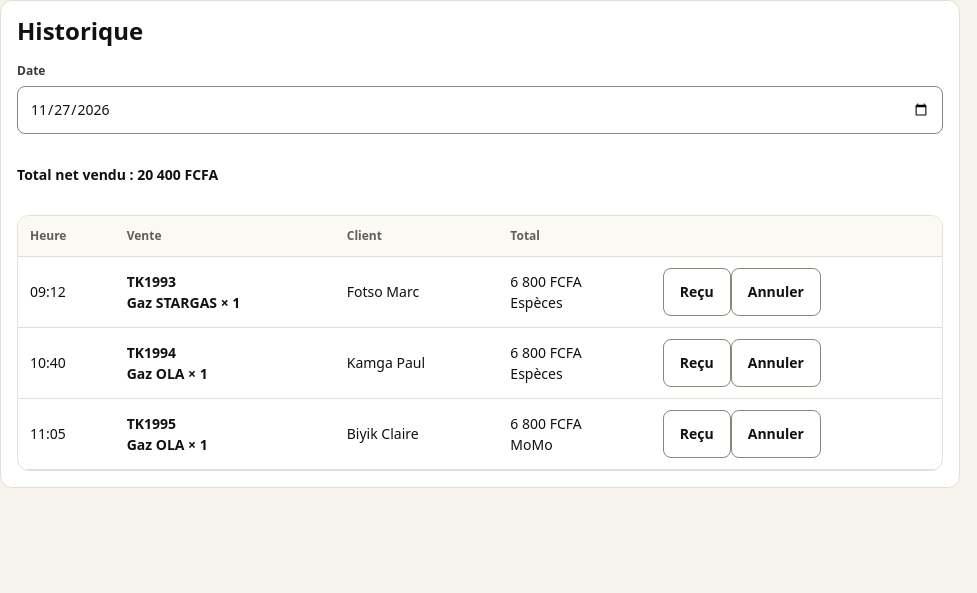
Scenario: historique et clients › annule une vente avec un motif ; elle ne peut pas l'être deux fois
Step 1. Click the button with aria-label "Annuler TK1993" → click(776, 292), box [731,268,821,316]
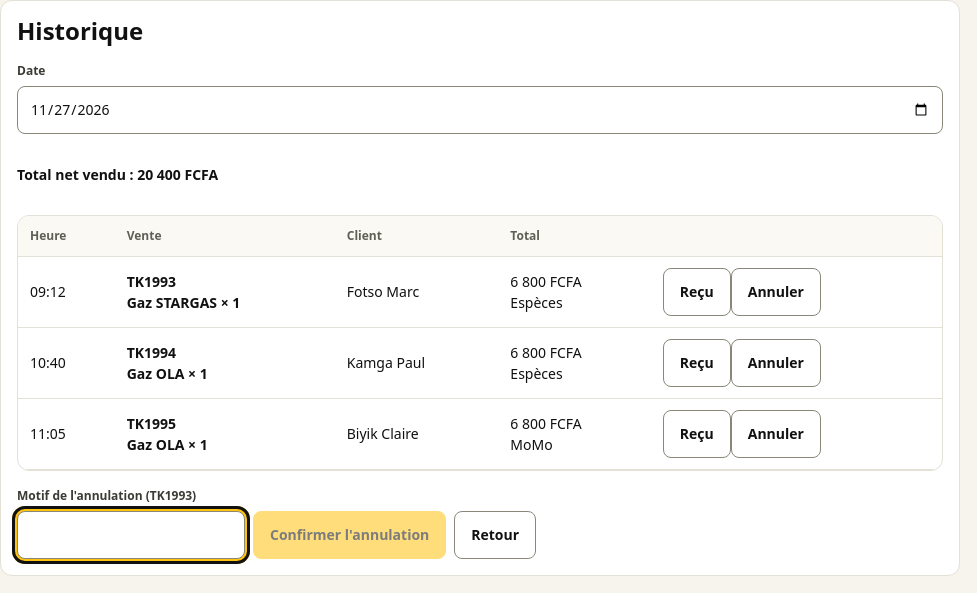
Step 2. Type "erreur de saisie" into the field labelled "Motif de l'annulation (TK1993)" → (131, 535), box [17,511,245,559]
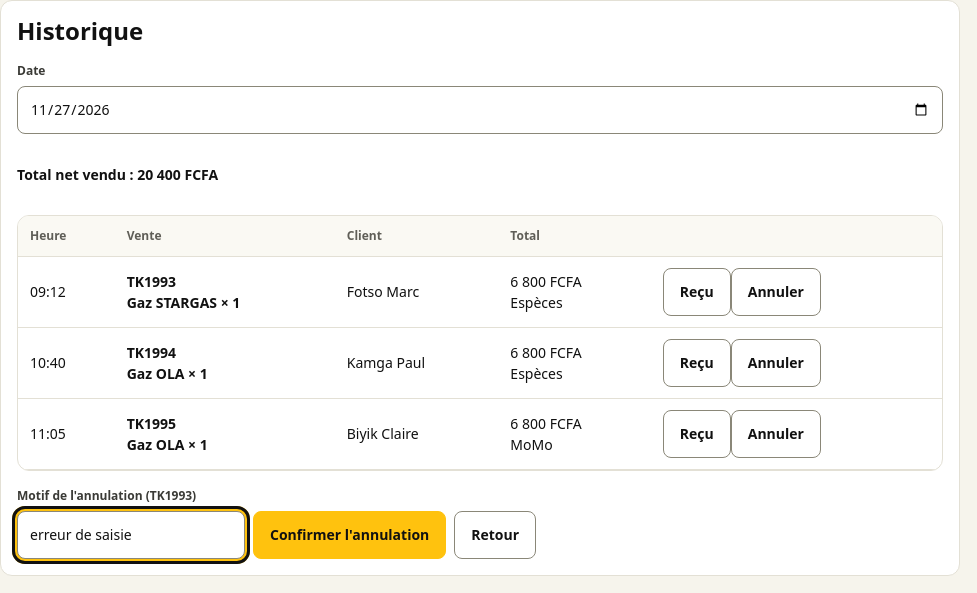
Step 3. Click the button "Confirmer l'annulation" → click(350, 535), box [253,511,446,559]
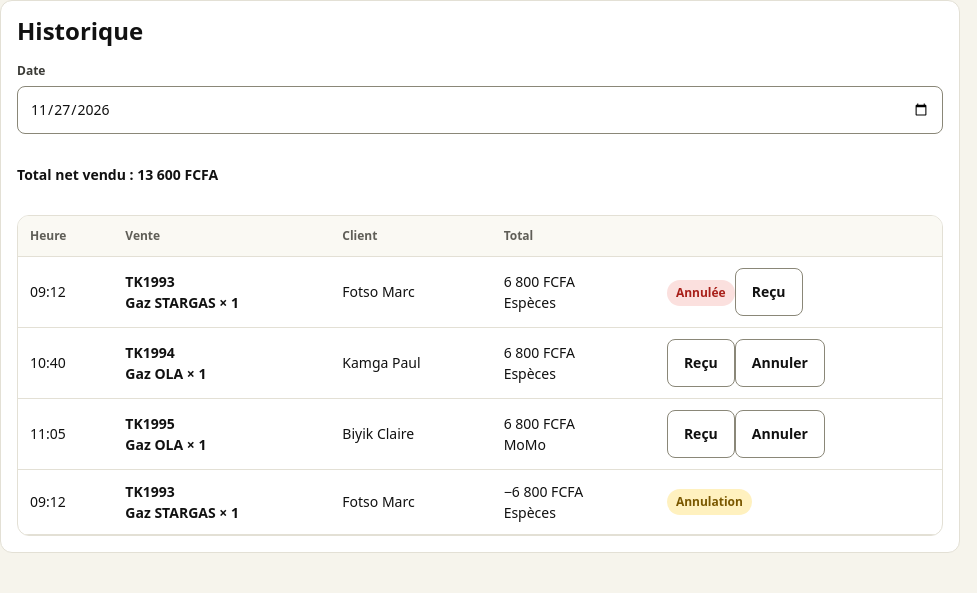
Now the text "Annulée" is shown, box [667,280,735,306]
